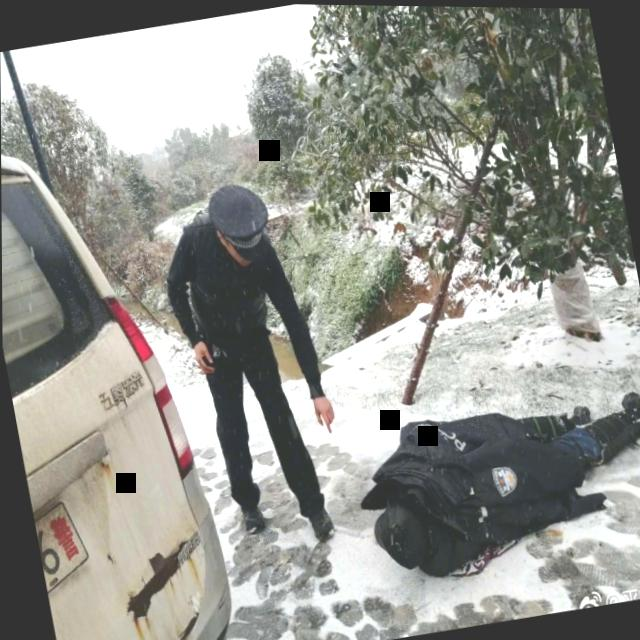Fall-Detected: (333, 353, 640, 604)
